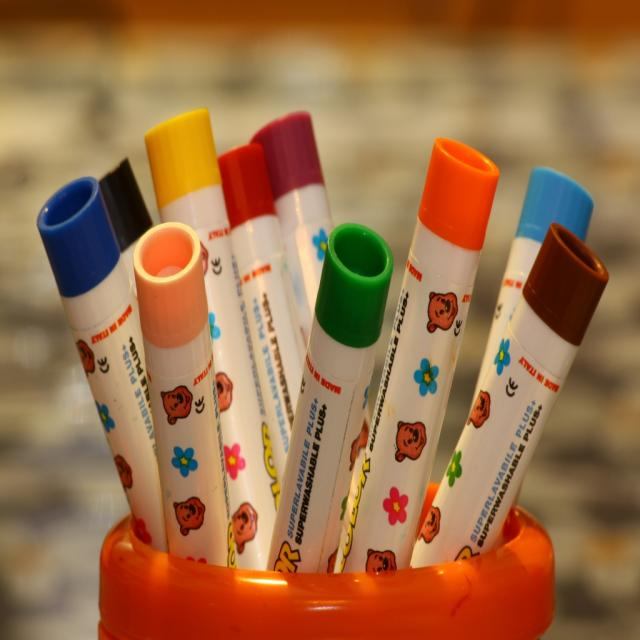pen: (36, 102, 611, 569)
